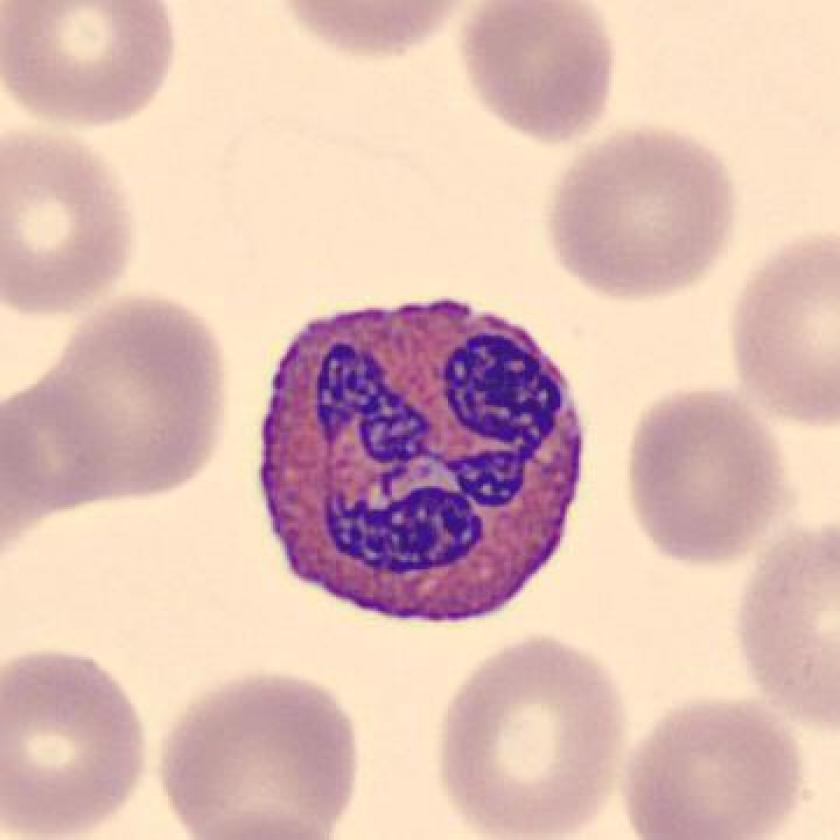eosinophil: (244, 286, 603, 635)
